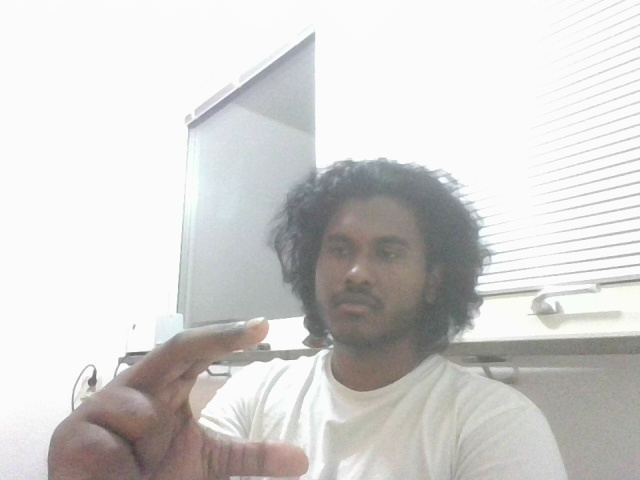no: (31, 317, 329, 480)
